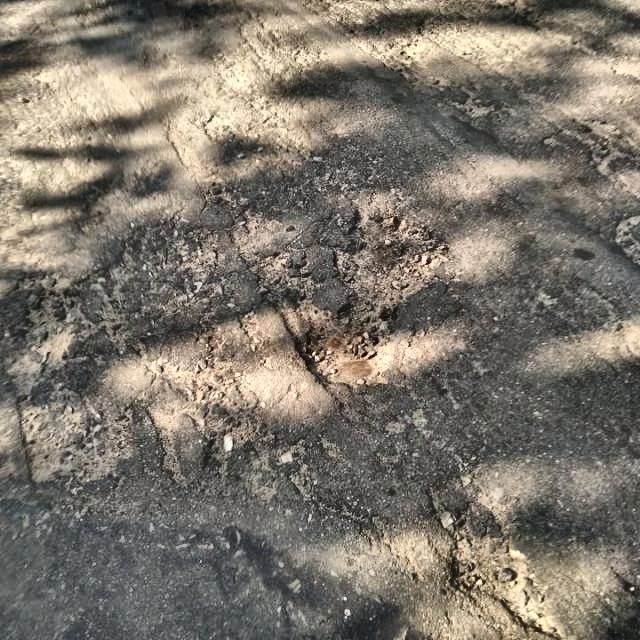Pothole: (442, 535, 576, 636), (329, 208, 455, 302), (298, 305, 402, 388)
